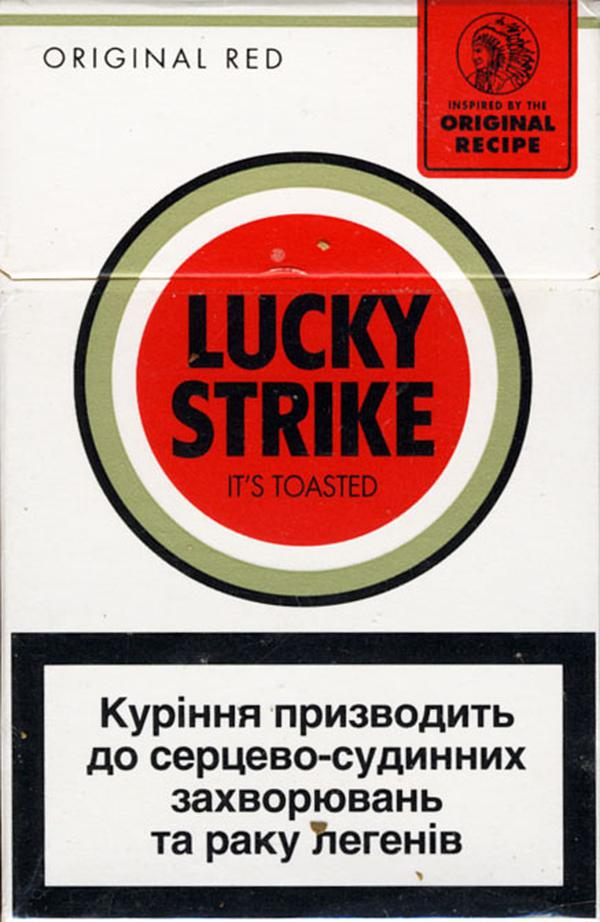lucky_strike_red: (1, 3, 596, 921)
